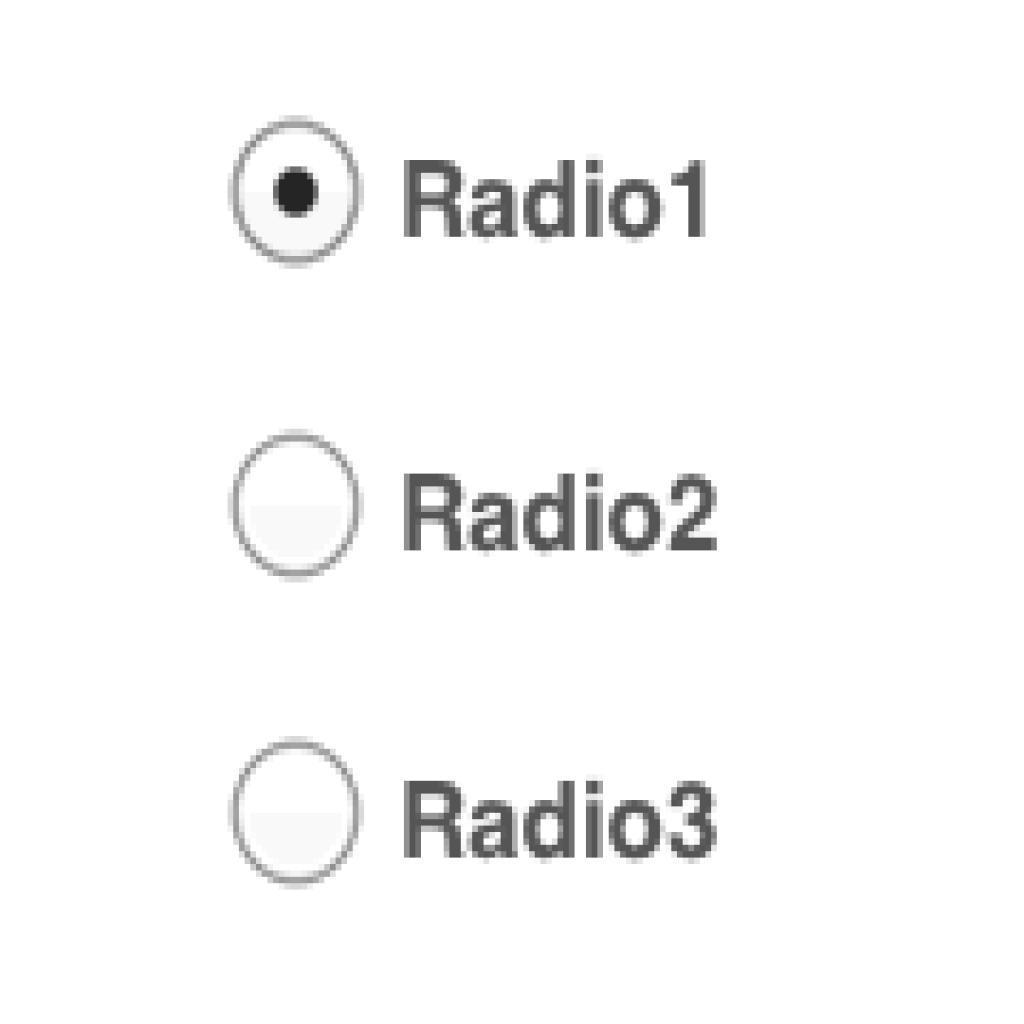label: (400, 768, 726, 870), (391, 464, 726, 562), (400, 151, 715, 247)
radio: (216, 107, 369, 272), (218, 726, 366, 895), (222, 423, 369, 588)
